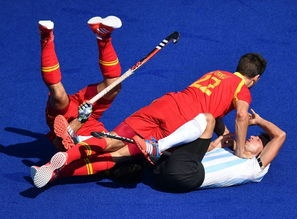falling: (18, 30, 282, 190)
